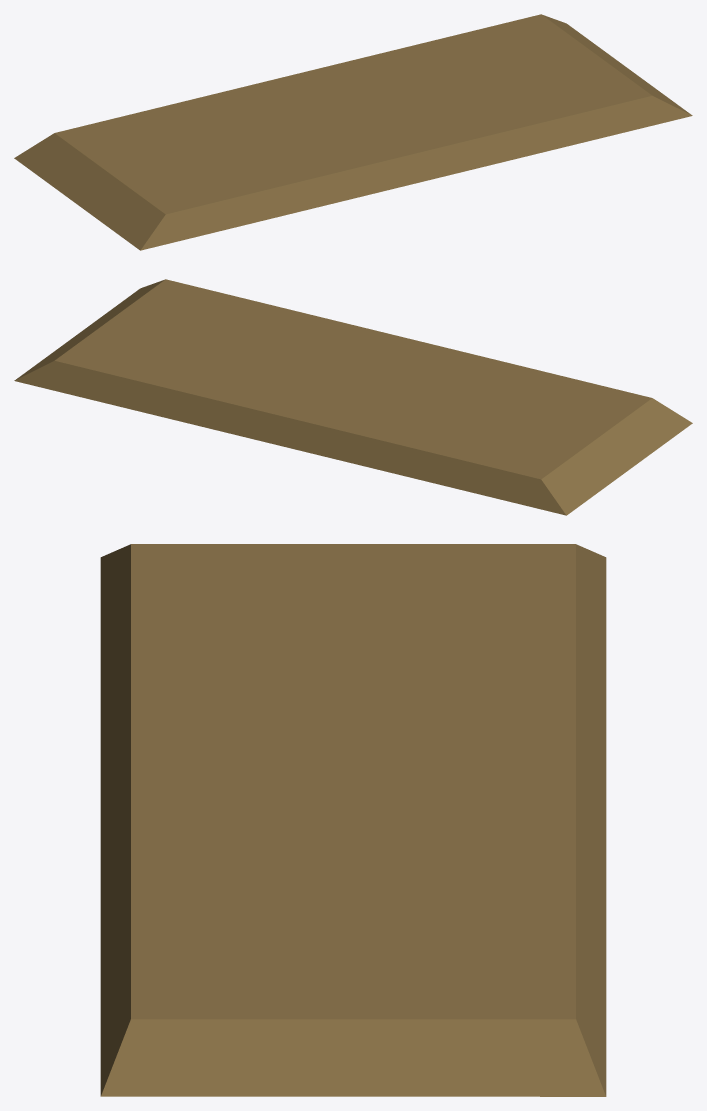
Rendered from Itr_Wardrobe1_Base_01.FBX.
The picture shows the model from 3 angles, top to bottom: view 1: azimuth 30°, elevation 25°; view 2: azimuth 150°, elevation 25°; view 3: azimuth 270°, elevation 25°; orthographic projection. The views are drawn at different scales.
Parts seen in each view (by area): view 1: Itr_Wardrobe1_Base_01; view 2: Itr_Wardrobe1_Base_01; view 3: Itr_Wardrobe1_Base_01.
Part boxes in pixels (x1,y1,x2,y2): Itr_Wardrobe1_Base_01: (14, 14, 692, 250); Itr_Wardrobe1_Base_01: (14, 279, 692, 515); Itr_Wardrobe1_Base_01: (100, 544, 606, 1096).
Size of the model in its own units: 50.57 by 1.99 by 20.02.
